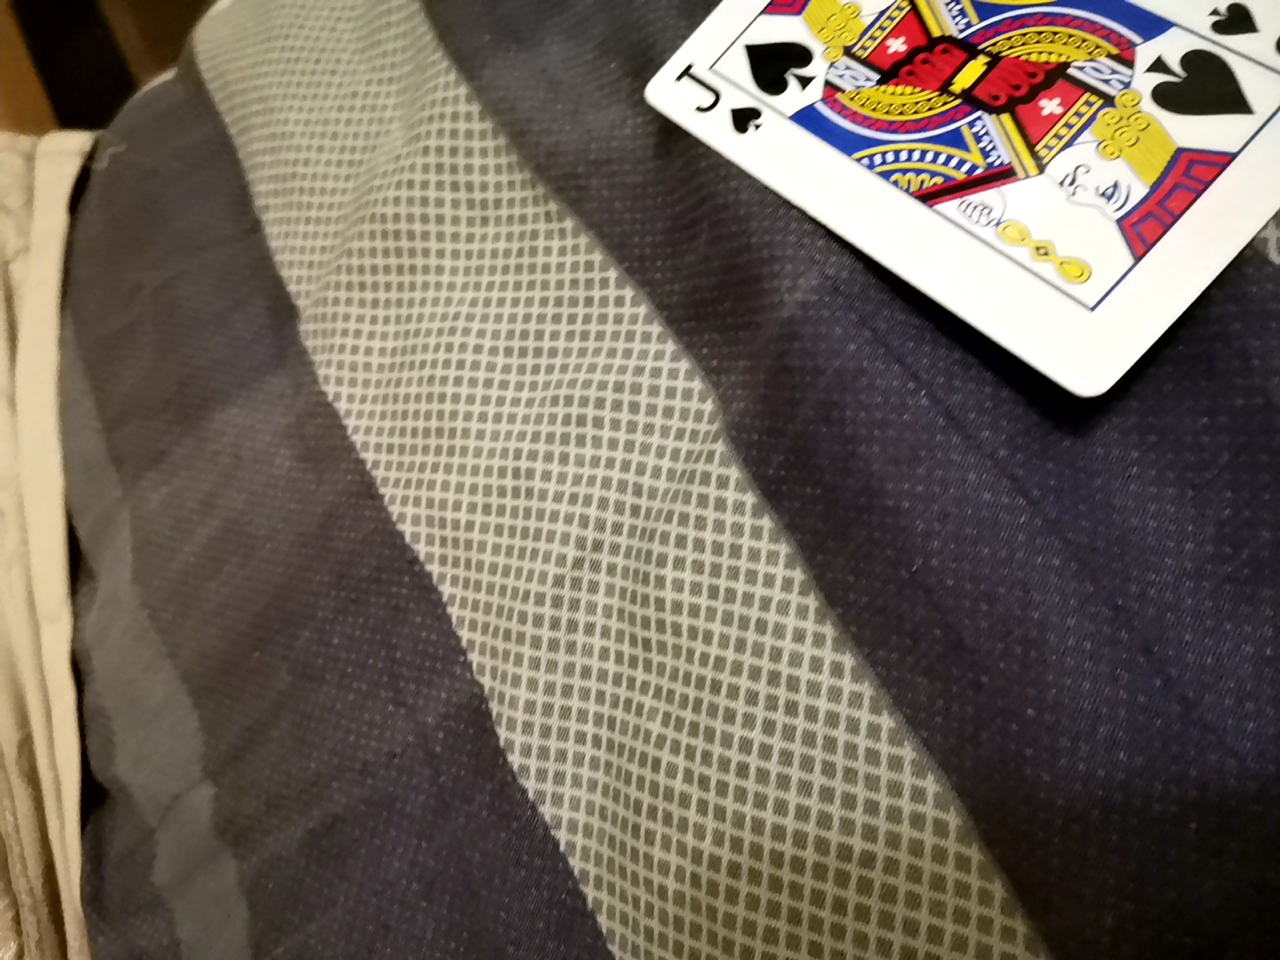ht j: (631, 0, 1269, 397)
